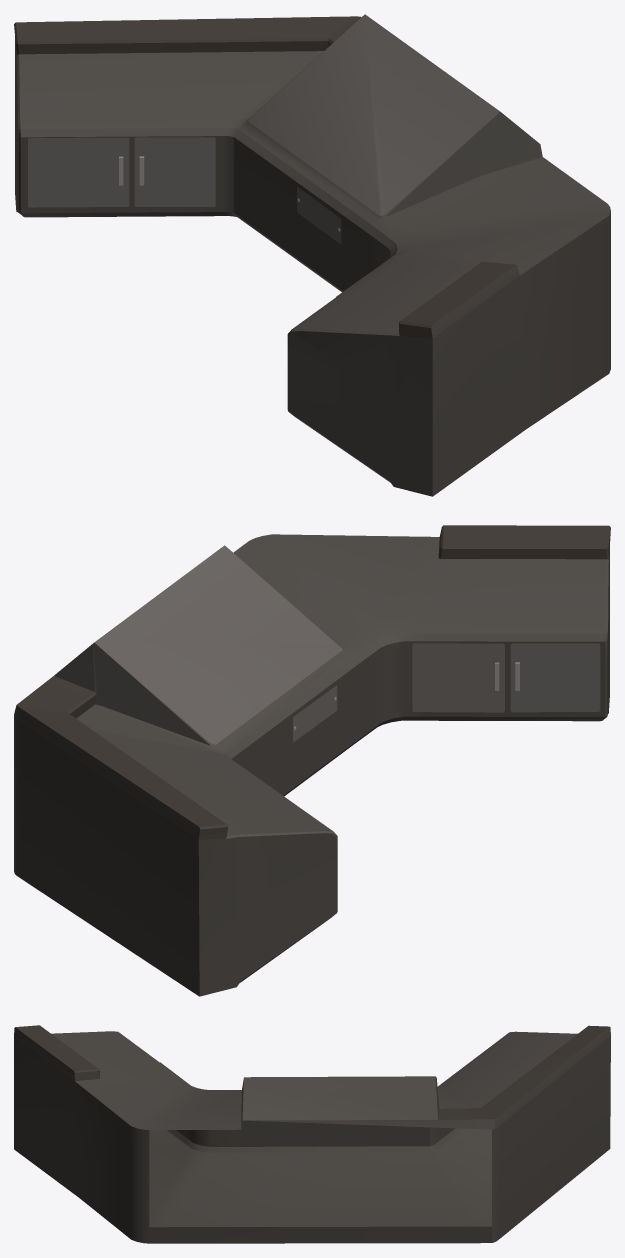
Rendered from Desk01_desktop.fbx.
3 views of the same model, one above another, from view 1: azimuth 30°, elevation 25°; view 2: azimuth 150°, elevation 25°; view 3: azimuth 270°, elevation 25° (orthographic). The views are drawn at different scales.
Parts seen in each view (by area): view 1: Desk_base_V4_desktop; view 2: Desk_base_V4_desktop; view 3: Desk_base_V4_desktop.
Part boxes in pixels (bbox=[...]): Desk_base_V4_desktop: bbox=[14, 14, 610, 496]; Desk_base_V4_desktop: bbox=[14, 525, 610, 996]; Desk_base_V4_desktop: bbox=[14, 1025, 610, 1243].
Bounding box in the file's own units: 1.37 × 0.8169 × 2.9.
